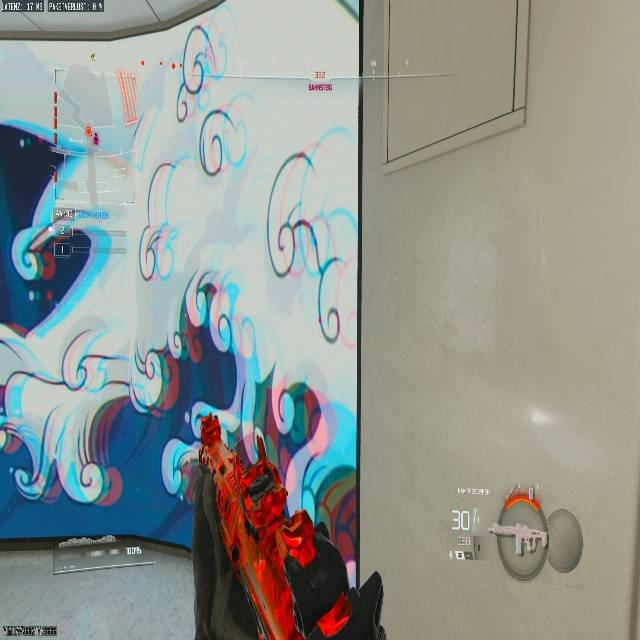head: (129, 2, 359, 531)
